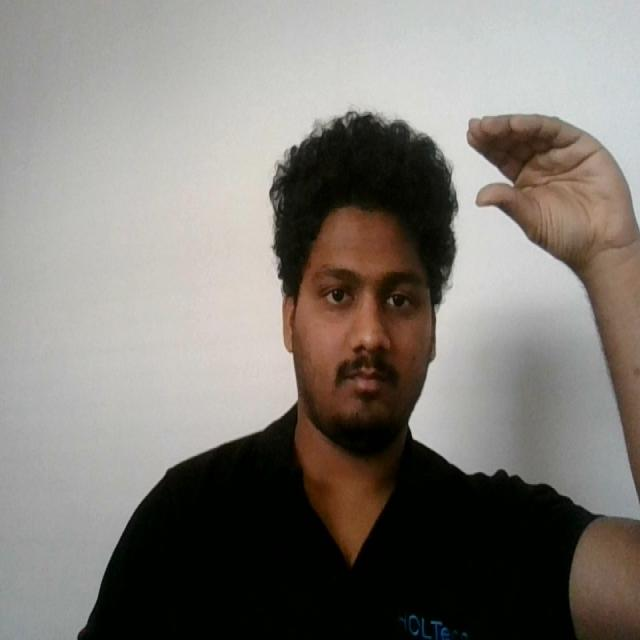No: (458, 108, 640, 278)
